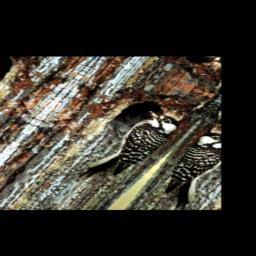Woodpecker: (75, 105, 186, 191)
